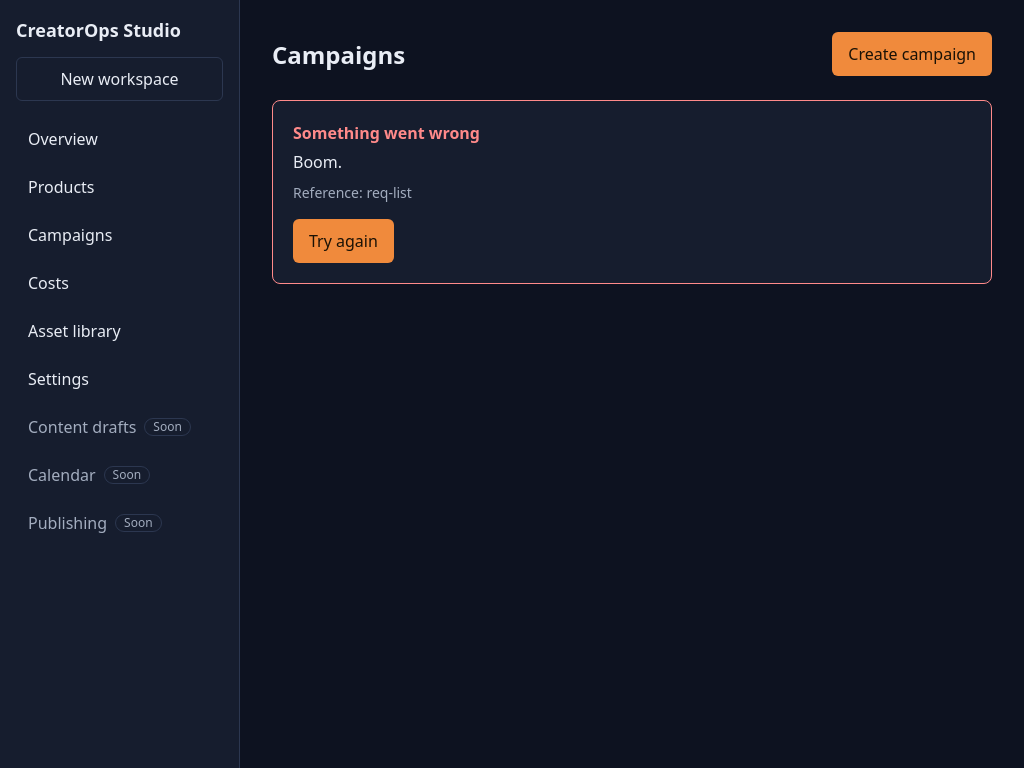
Scenario: CampaignsPage › shows an error with the request reference, and Try again refetches
This screenshot has width=1024, height=768.
Expected: the text "Boom." is shown, [293,151,342,173]
Expected: the text "Reference: req-list" is shown, [293,183,412,202]
Click the button "Try again". click: point(343, 241)
box: [293,219,394,263]
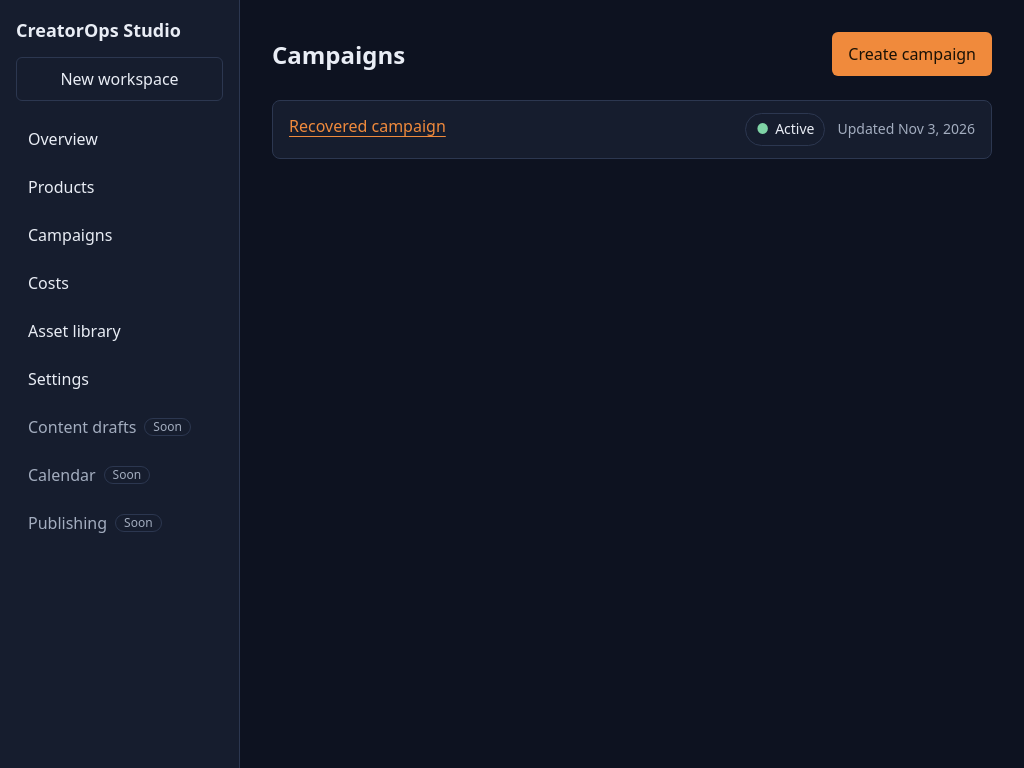
Now the link "Recovered campaign" is shown, box [289,115,446,137]
Now the message "Something went wrong Boom. Reference: req-list Try again" is gone
